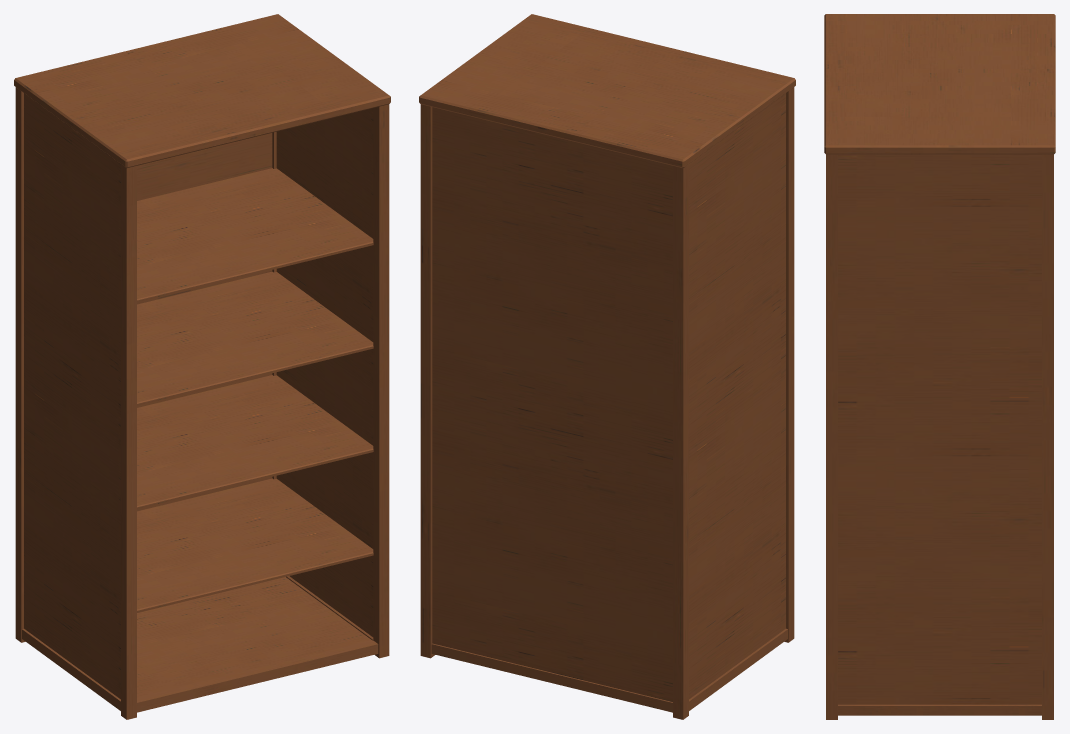
The model's file is rack_c02.fbx.
The picture shows the model from 3 angles, left to right: view 1: azimuth 30°, elevation 25°; view 2: azimuth 150°, elevation 25°; view 3: azimuth 270°, elevation 25°; orthographic projection. The views are drawn at different scales.
Parts seen in each view (by area): view 1: tana_c02; view 2: tana_c02; view 3: tana_c02.
Part boxes in pixels (x1,y1,x2,y2): tana_c02: [14, 14, 390, 719]; tana_c02: [419, 14, 795, 719]; tana_c02: [824, 14, 1055, 719].
Bounding box in the file's own units: 80.59 × 163 × 59.37.
1 material, 1 textured.
